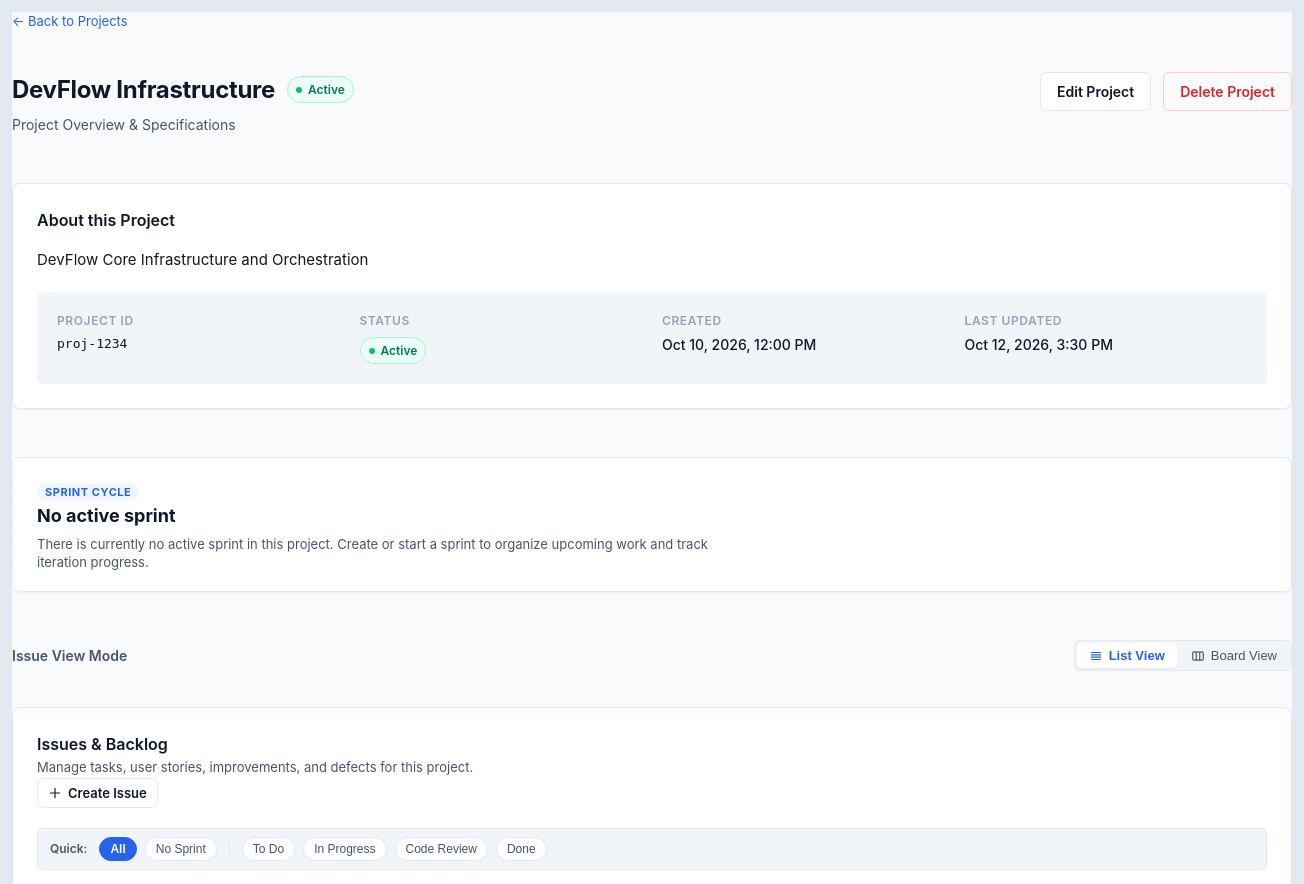
ProjectDetailsPage Component › toggles between List View and Kanban Board View
The image size is (1304, 884).
Expected: the heading "Issues & Backlog" is shown, x1=37 y1=734 x2=168 y2=754
Step 1. Click the tab "Board View" → click(1234, 656), box x1=1179 y1=643 x2=1289 y2=668
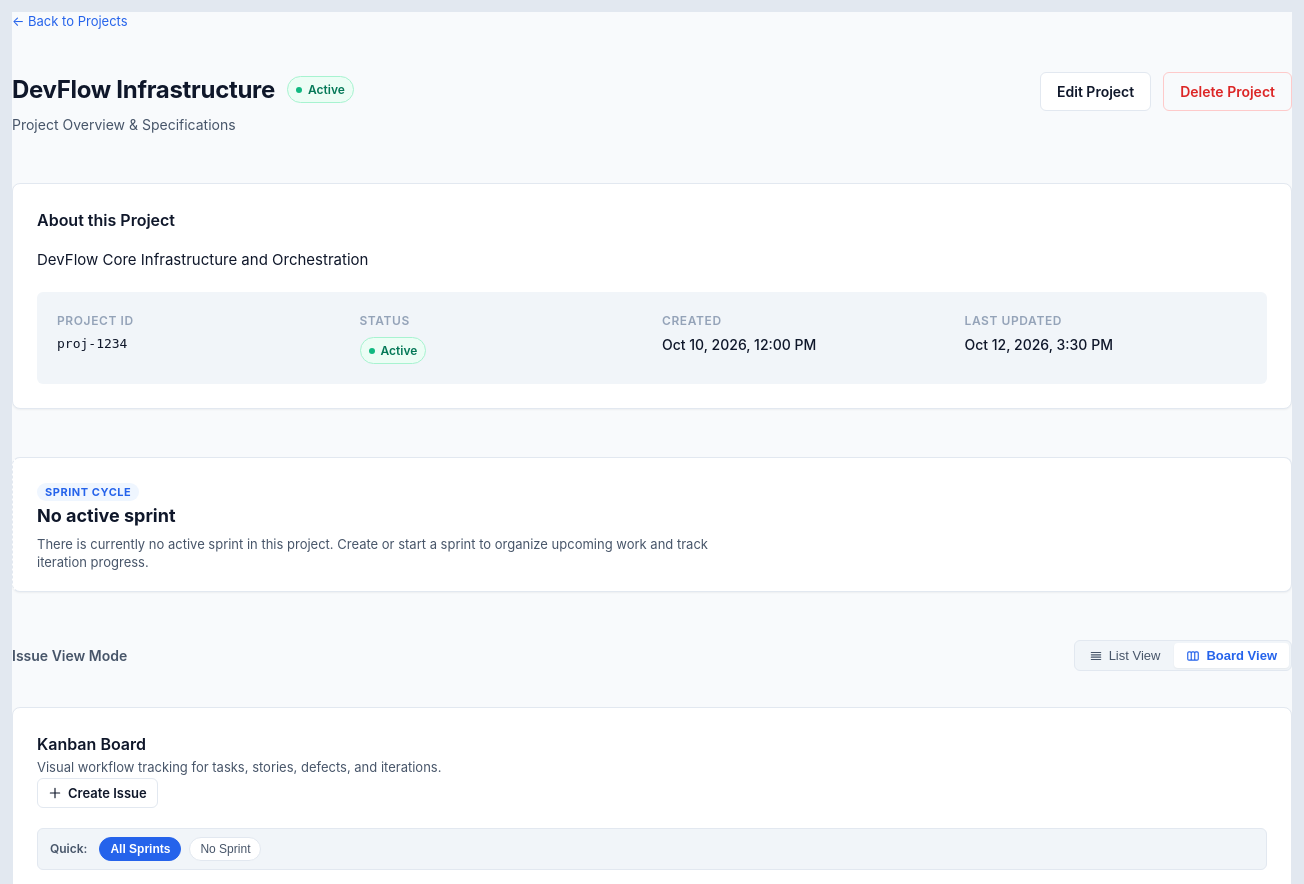
Result: the heading "Kanban Board" is shown at x1=37 y1=734 x2=146 y2=754
Step 2. Click the tab "List View" → click(1124, 656), box x1=1077 y1=643 x2=1172 y2=668
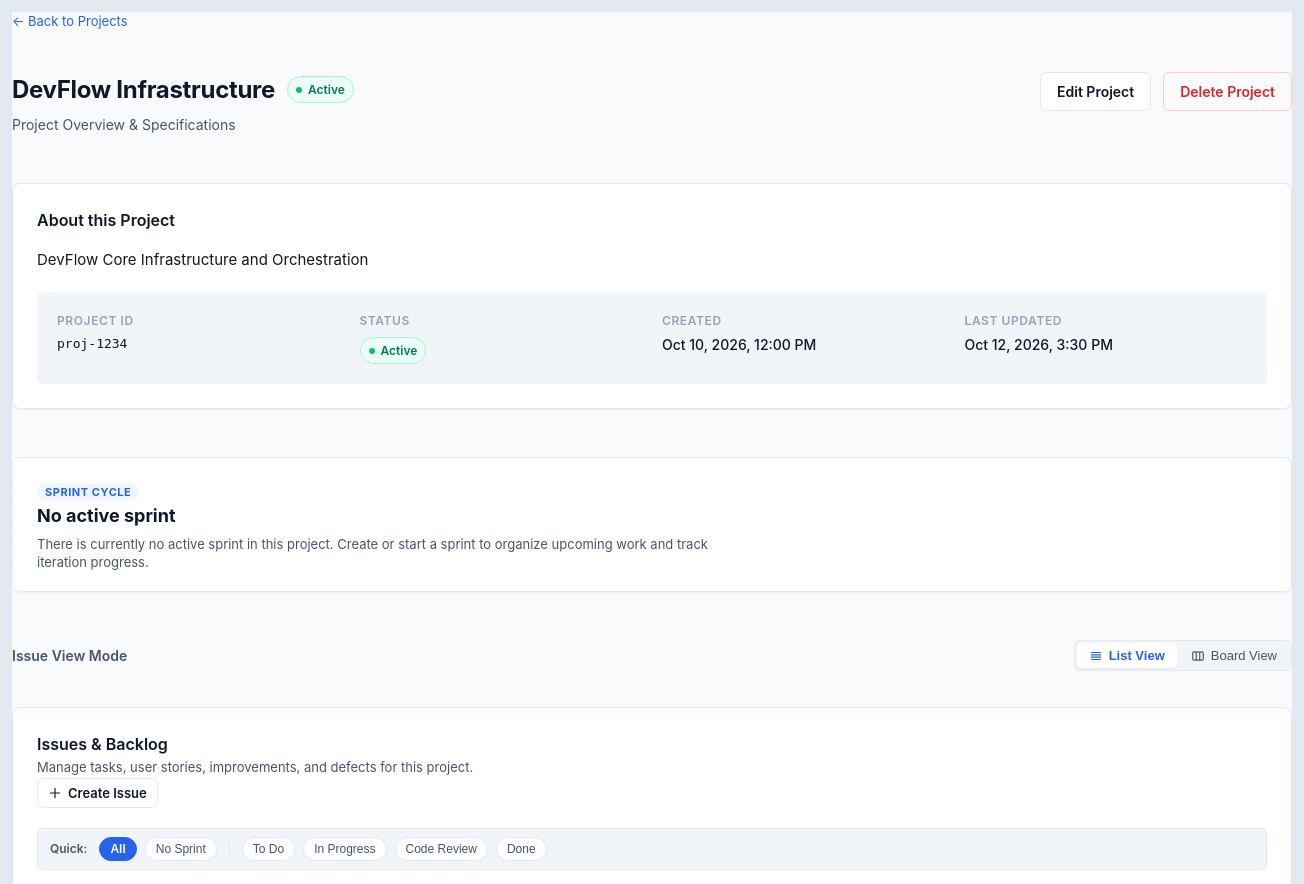
Result: the heading "Issues & Backlog" is shown at x1=37 y1=734 x2=168 y2=754
